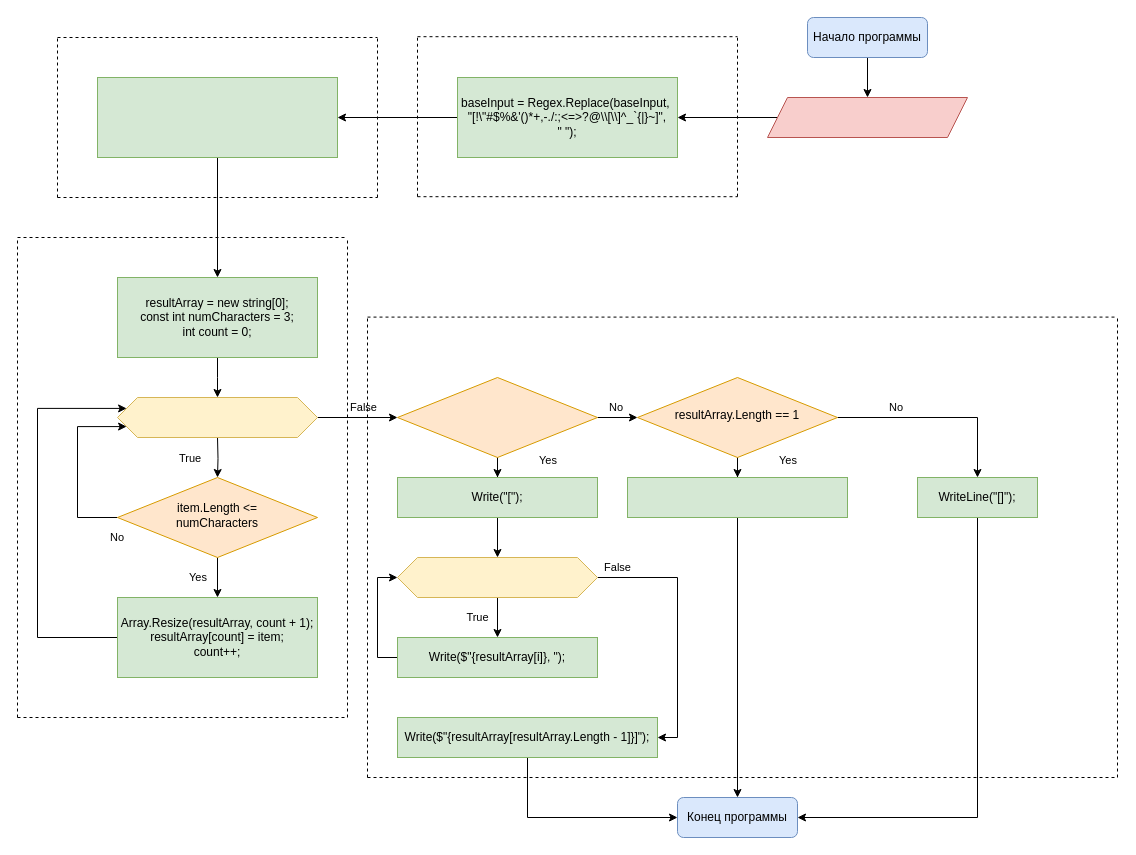
Image size: 1136x855. Some labels were removed from this diagram. Each missing label, with the centre of its shape:
array = baseInput.Split(" ", StringSplitOptions.RemoveEmptyEntries);: point 217,117
baseInput = ReadLine();: point 867,117
foreach (item in array): point 217,417
i = 0; i < resultArray.Length - 1; i++: point 497,577
resultArray.Length > 1: point 497,417
WriteLine($"[{resultArray[0]}]");: point 737,497
